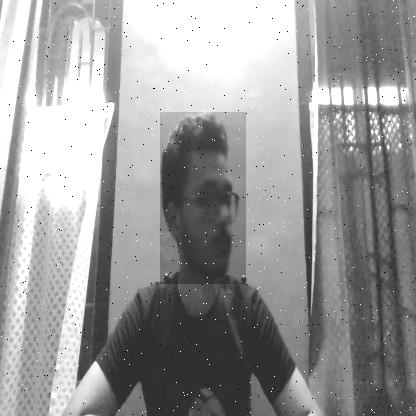Distracted: (160, 112, 246, 284)
